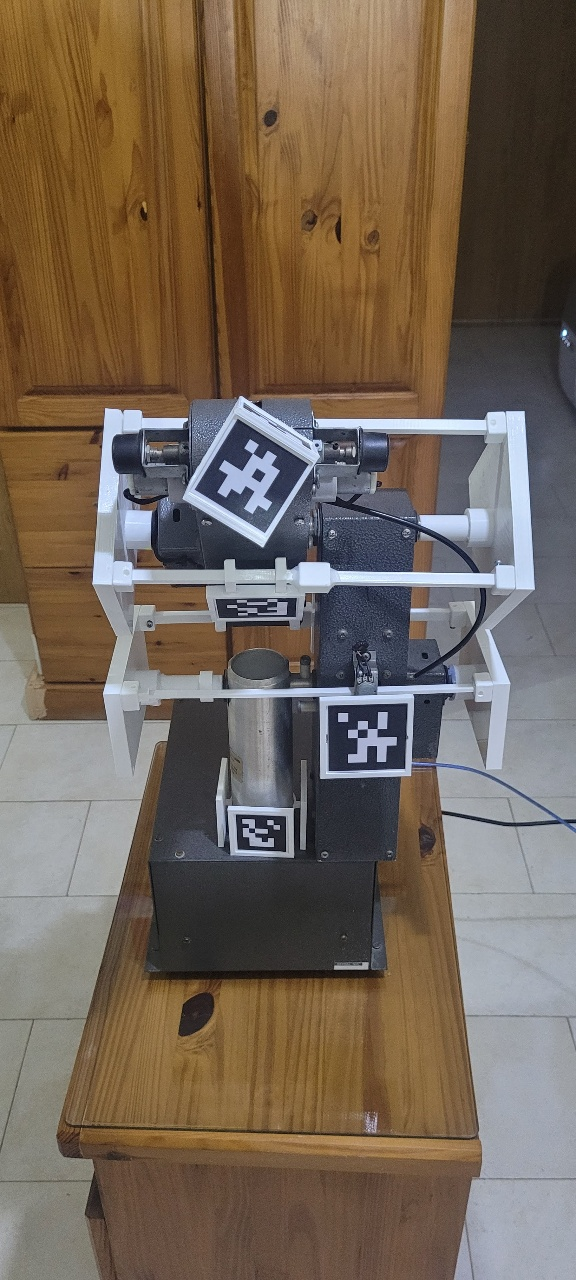Robot: (42, 212, 540, 946)
